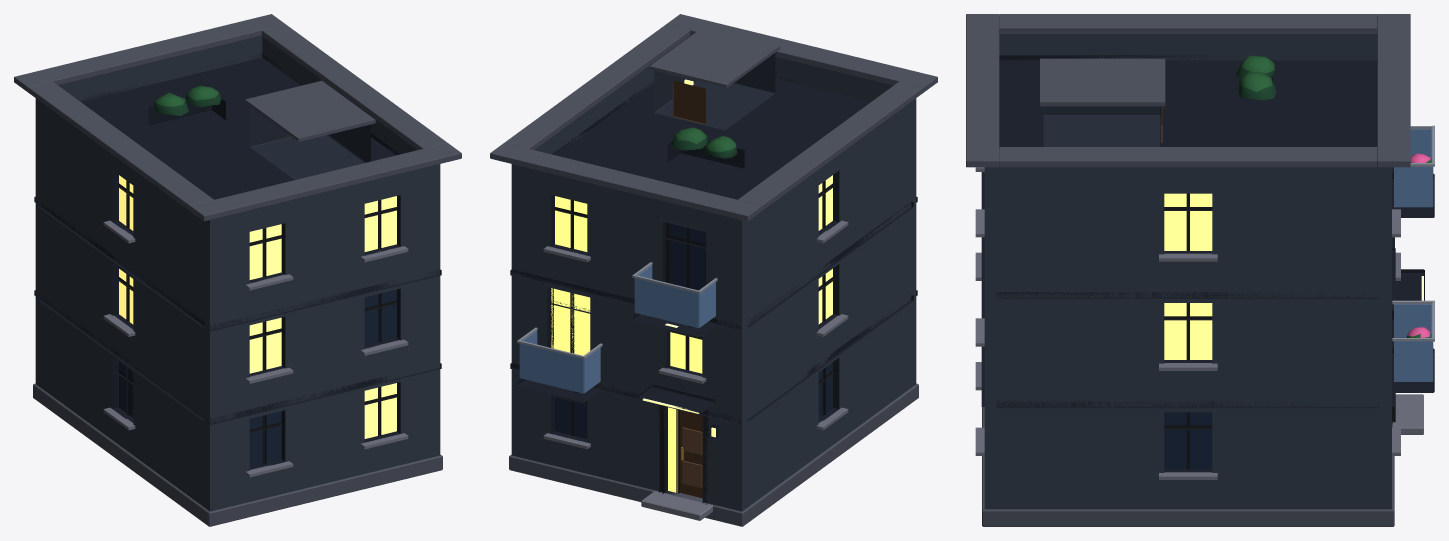
The model's file is house_a.glb.
3 renders of one model, left to right at view 1: azimuth 30°, elevation 25°; view 2: azimuth 150°, elevation 25°; view 3: azimuth 270°, elevation 25°, orthographic. The views are drawn at different scales.
Visible parts, largest first — view 1: house, plants; view 2: house, plants; view 3: house, plants.
Boxes of the visible parts, left/top/right/bottom form: house: left=14, top=14, right=461, bottom=526; plants: left=154, top=85, right=221, bottom=115; house: left=490, top=14, right=937, bottom=526; plants: left=573, top=127, right=737, bottom=392; house: left=966, top=14, right=1434, bottom=526; plants: left=1236, top=55, right=1431, bottom=337.
Bounding box in the file's own units: 6.5 × 8.25 × 8.76.
